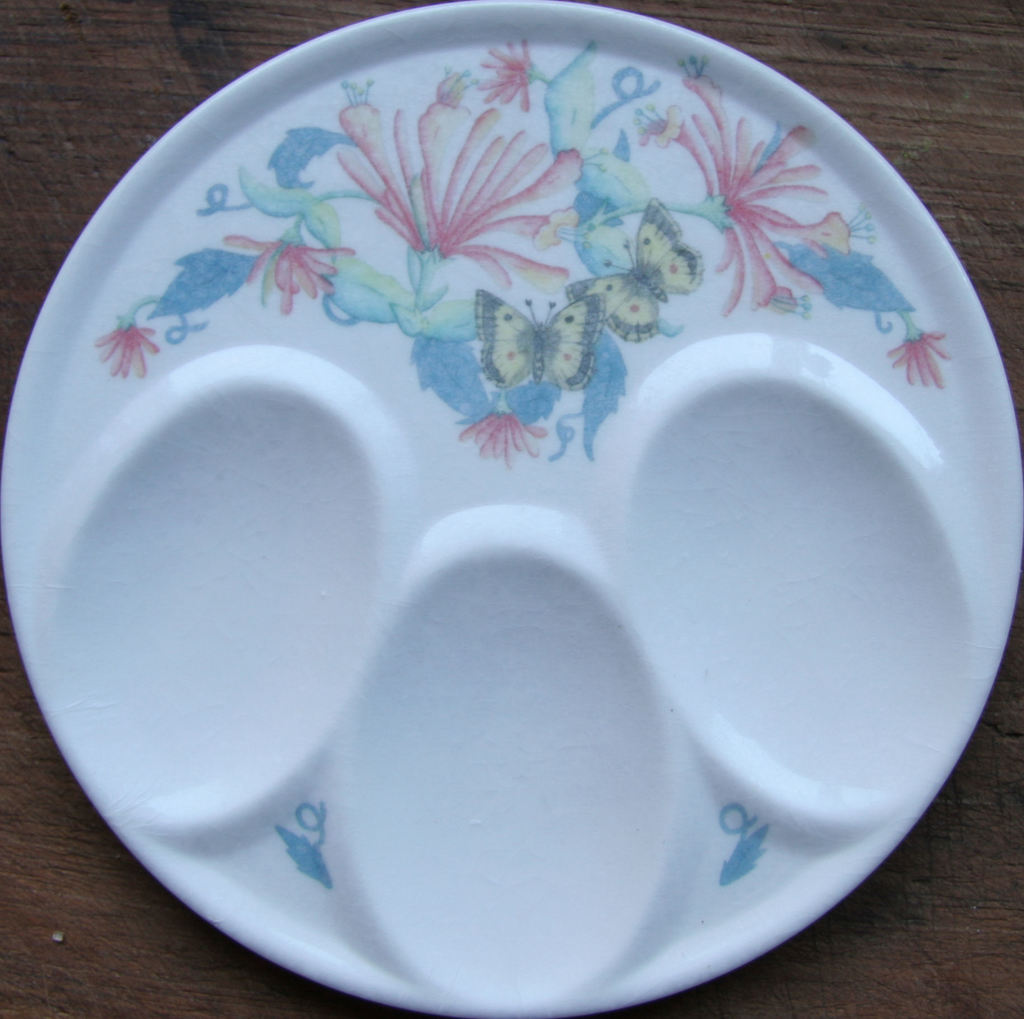plate: (0, 0, 1022, 1018)
